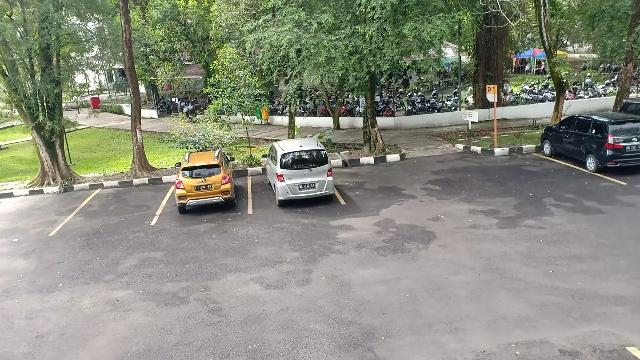empty: (75, 180, 169, 226)
occupied: (538, 120, 640, 182), (168, 160, 252, 224), (249, 156, 343, 212)
